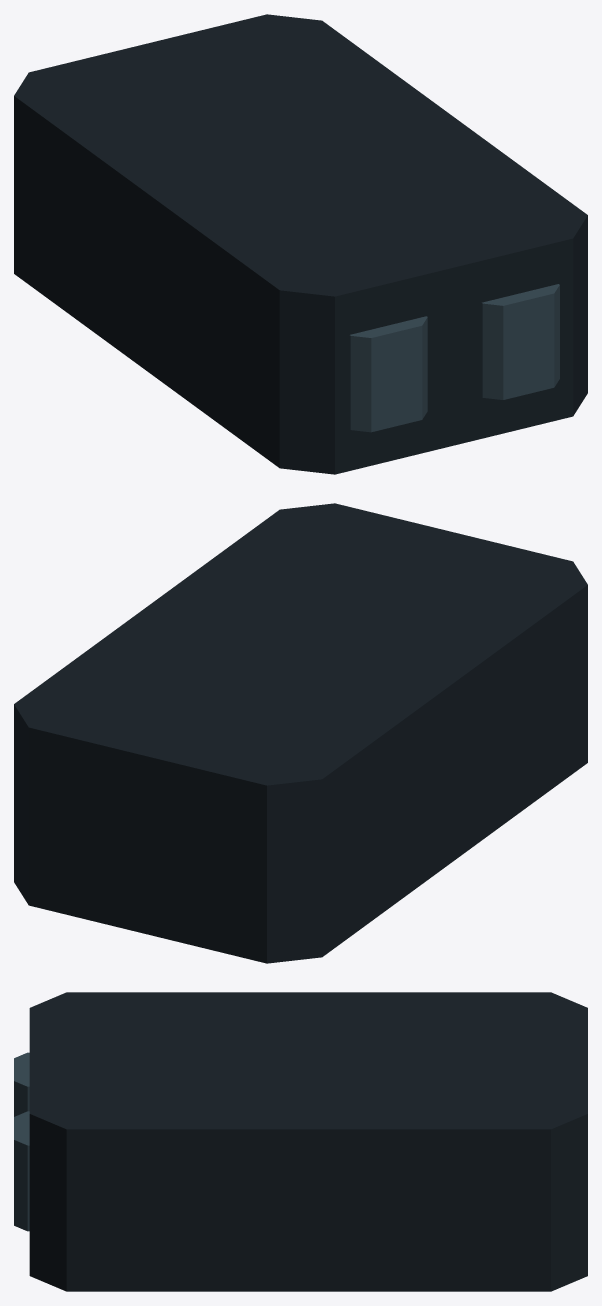
The model's file is enemy_runner_foot_l.obj.
3 renders of one model, top to bottom at view 1: azimuth 30°, elevation 25°; view 2: azimuth 150°, elevation 25°; view 3: azimuth 270°, elevation 25°, orthographic. The views are drawn at different scales.
Size of the model in its own units: 0.308 by 0.17 by 0.545.
